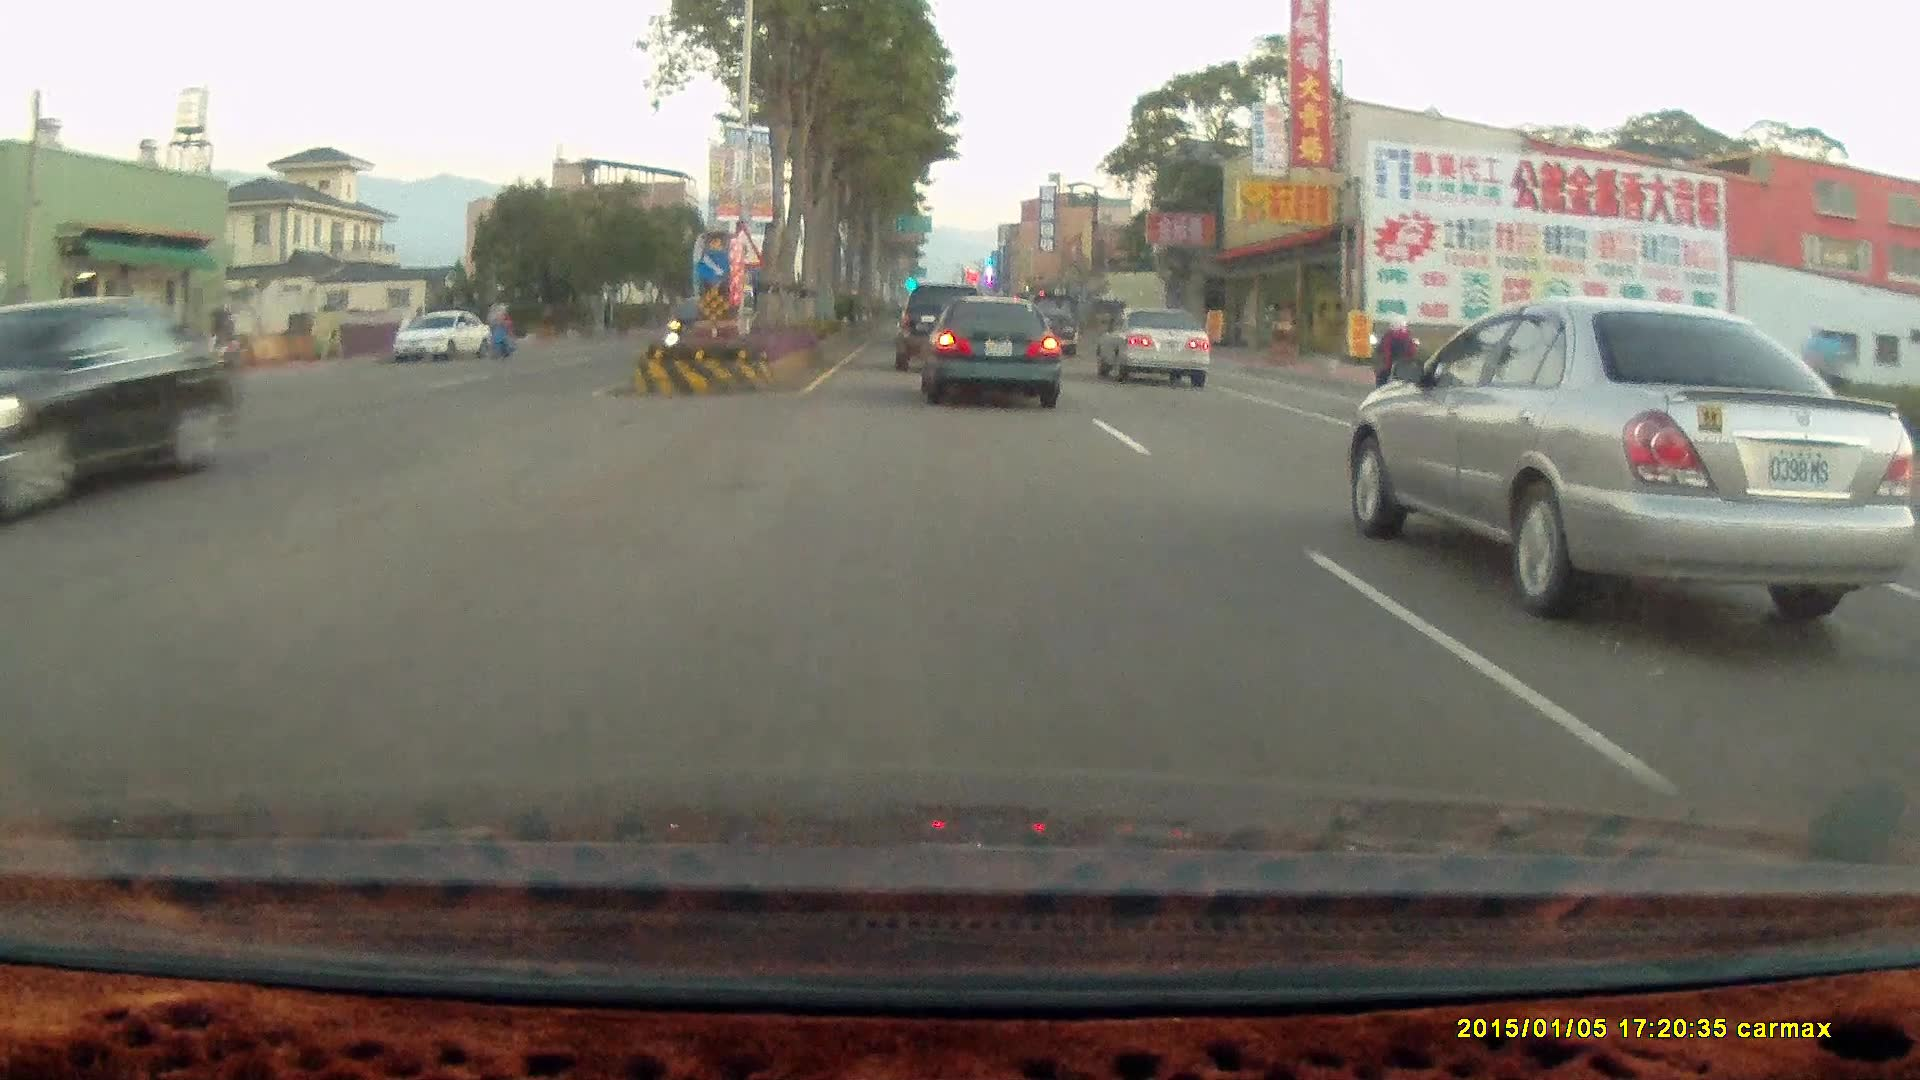rider: (1361, 303, 1430, 425), (1364, 306, 1414, 411), (482, 295, 514, 358)
vehicle: (1353, 288, 1920, 616), (1, 298, 234, 521), (918, 294, 1062, 409), (916, 293, 1060, 406), (1096, 305, 1215, 387), (1093, 305, 1209, 386), (892, 281, 986, 376), (893, 282, 983, 370), (390, 309, 498, 362), (662, 297, 745, 359), (394, 312, 486, 367), (663, 295, 742, 358), (1011, 290, 1078, 356)
